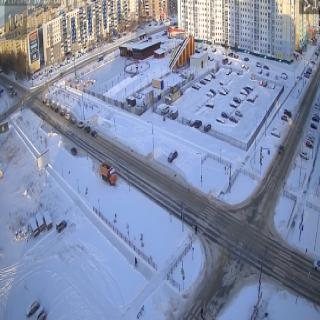large-vehicle: (100, 161, 118, 187)
small-vehicle: (24, 299, 40, 318), (32, 306, 48, 320), (56, 219, 67, 234), (167, 150, 178, 164), (270, 127, 281, 139), (160, 104, 169, 117), (194, 118, 203, 130), (283, 109, 292, 120), (219, 88, 227, 100), (229, 114, 238, 124), (305, 140, 314, 149), (90, 130, 98, 140), (301, 151, 309, 161), (70, 145, 78, 155), (204, 123, 212, 133), (309, 122, 317, 131), (205, 102, 214, 110), (236, 108, 243, 118), (307, 133, 315, 141), (311, 115, 319, 123), (220, 111, 228, 119), (206, 92, 214, 100), (192, 84, 200, 92), (230, 100, 237, 109), (280, 115, 288, 122), (199, 79, 207, 86), (84, 125, 90, 134), (77, 121, 83, 130), (59, 110, 65, 118), (54, 106, 60, 114), (209, 88, 215, 96), (65, 113, 70, 122), (50, 103, 56, 110), (45, 101, 51, 108), (42, 98, 48, 105), (70, 118, 75, 124)
